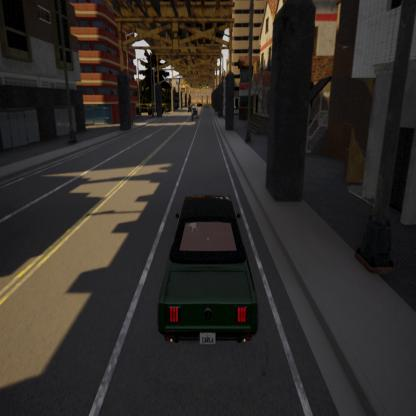Cars: (152, 177, 264, 362), (189, 102, 200, 122)
